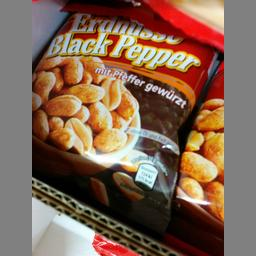nuts: (31, 10, 217, 234)
